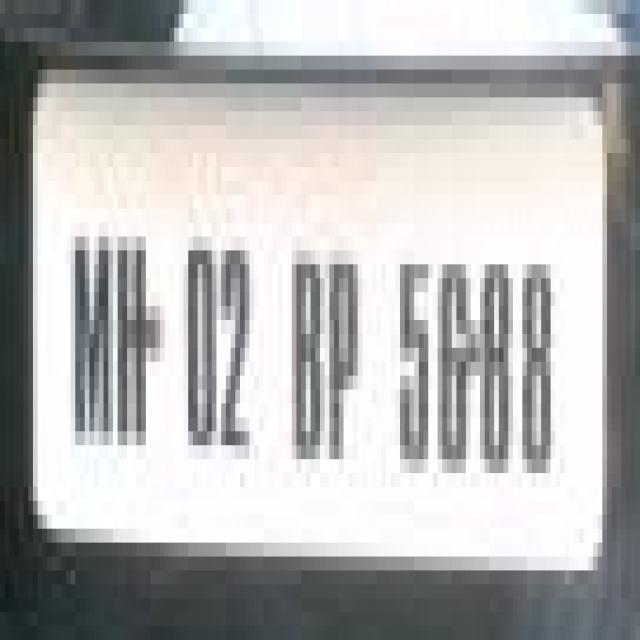license_plate: (14, 70, 640, 584)
